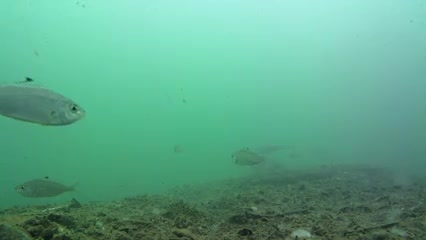smallfish: (1, 83, 79, 132), (17, 178, 79, 205)
